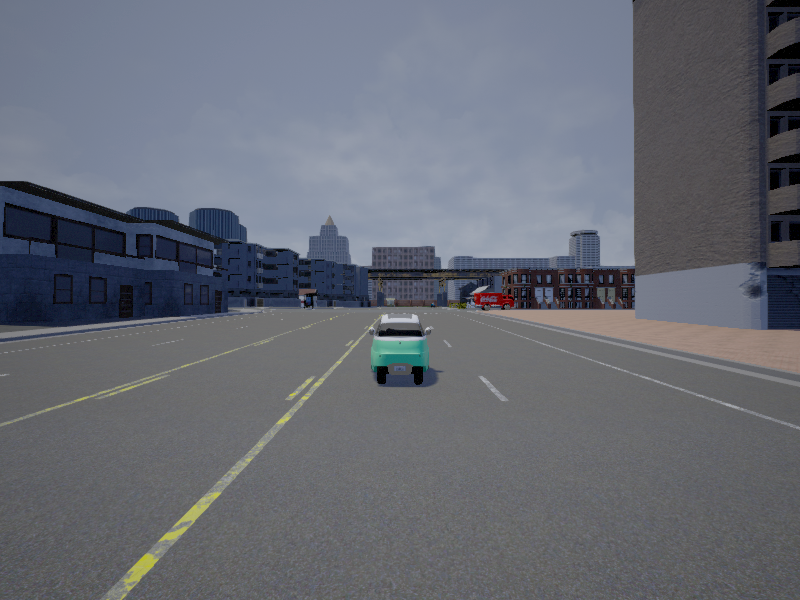Benign: (368, 313, 432, 386), (473, 291, 514, 310)
